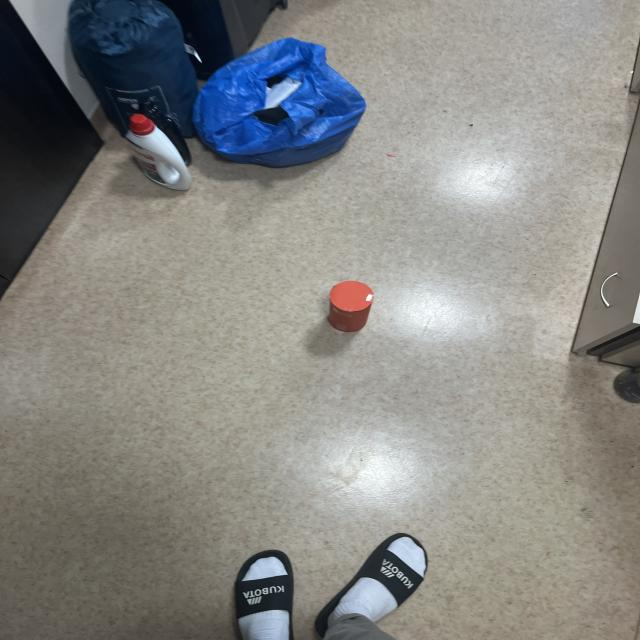przeszkoda: (329, 281, 374, 332)
